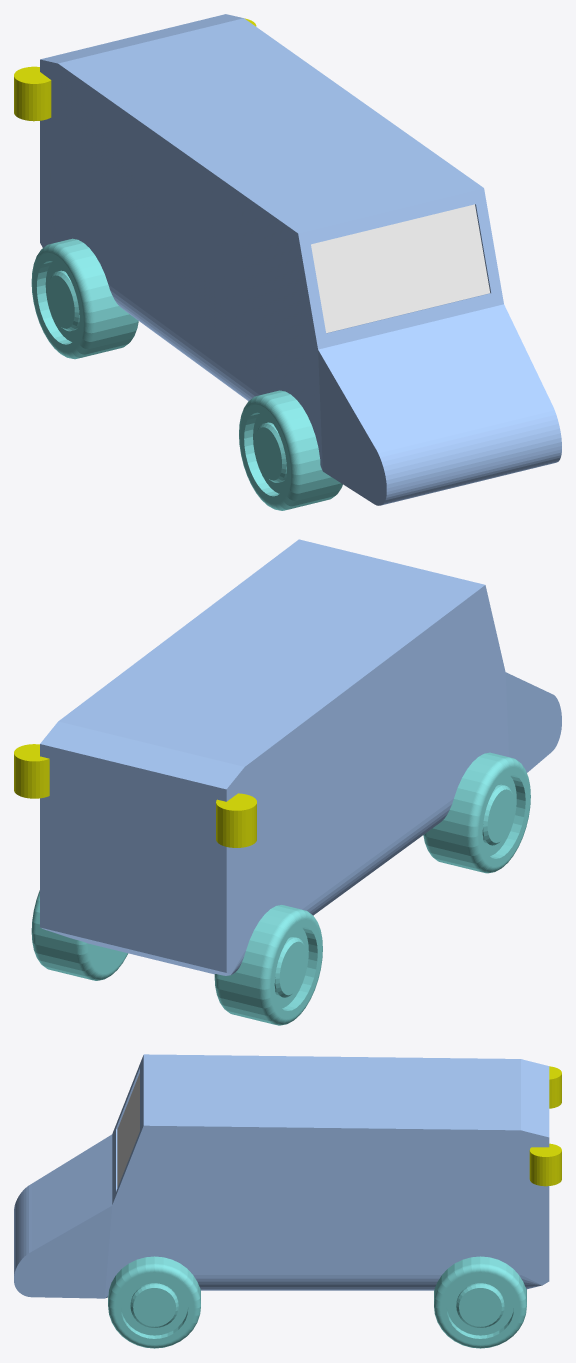
File: truck_1.glb
3 views of the same model, one above another, from view 1: azimuth 30°, elevation 25°; view 2: azimuth 150°, elevation 25°; view 3: azimuth 270°, elevation 25° (orthographic). The views are drawn at different scales.
Parts seen in each view (by area): view 1: Cube, Cylinder, Cube.001, Cylinder.001; view 2: Cube, Cylinder, Cylinder.001; view 3: Cube, Cylinder, Cylinder.001, Cube.001.
Part boxes in pixels (x1,y1,x2,y2): Cube: (40,14,561,505); Cylinder: (31,238,342,510); Cube.001: (311,204,489,332); Cylinder.001: (14,18,256,121); Cube: (40,539,561,975); Cylinder: (31,752,530,1025); Cylinder.001: (14,744,256,847); Cube: (14,1054,549,1298); Cylinder: (108,1256,526,1348); Cylinder.001: (529,1066,561,1186); Cube.001: (117,1073,139,1187).
Bounding box in the file's own units: 2.32 × 2.56 × 5.9.
